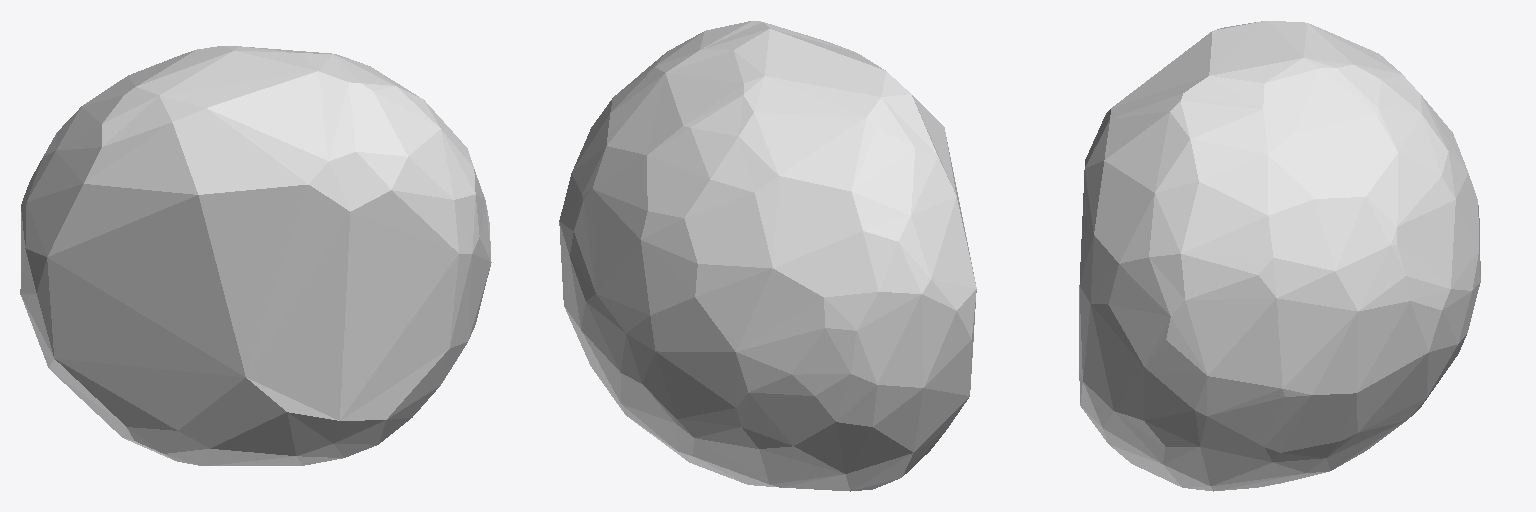
robot.urdf — talos_larm_rom:
<?xml version="1.0" ?>
<robot name="talos_larm_rom" xmlns:controller="http://playerstage.sourceforge.net/gazebo/xmlschema/#controller" xmlns:interface="http://playerstage.sourceforge.net/gazebo/xmlschema/#interface" xmlns:sensor="http://playerstage.sourceforge.net/gazebo/xmlschema/#sensor" xmlns:xacro="http://ros.org/wiki/xacro">

  <link name="torso_2_link">
    <inertial>
      <origin rpy="0.00000 0.00000 0.00000" xyz="-0.04551 -0.00053 0.16386"/>
      <mass value="17.55011"/>
      <inertia ixx="0.37376900000" ixy="0.00063900000" ixz="0.01219600000" iyy="0.24790200000" iyz="0.00000700000" izz="0.28140400000"/>
    </inertial>    
    <visual>
      <origin rpy="0 0 0" xyz="0 0 0"/>
      <geometry>
        <mesh filename="package://talos-rbprm/meshes/talos_larm_rom.dae" scale="1 1 1"/>
      </geometry>
      <material name="LightGrey"/>
    </visual>
    <collision>
      <origin rpy="0 0 0" xyz="0 0 0"/>
      <geometry>
        <mesh filename="package://talos-rbprm/meshes/talos_larm_rom.stl" scale="1 1 1"/>
      </geometry>
    </collision>
  </link>
  <!--************************-->
  <!--        TORSO_1  (PAN)  -->
  <!--************************-->
  <link name="torso_1_link">
    <inertial>
      <origin rpy="0.00000 0.00000 0.00000" xyz="0.00013 -0.00001 -0.01306"/>
      <mass value="3.02433"/>
      <inertia ixx="0.00759400000" ixy="0.00000100000" ixz="-0.00004800000" iyy="0.00429200000" iyz="-0.00000100000" izz="0.00749700000"/>
    </inertial>
  </link>
  <joint name="torso_1_joint" type="revolute">
    <parent link="base_link"/>
    <child link="torso_1_link"/>
    <origin rpy="0.0 0.0 0.0" xyz="0.0 0.0 0.0722"/>
    <axis xyz="0 0 1"/>
    <limit effort="78.0" lower="-1.25663706144" upper="1.25663706144" velocity="5.4"/>
  </joint>
  <!--************************-->
  <!--        BASE_LINK       -->
  <!--************************-->
  <link name="base_link">
    <inertial>
      <origin rpy="0.00000 0.00000 0.00000" xyz="-0.08222 0.00838 -0.07261"/>
      <mass value="13.53810"/>
      <inertia ixx="0.06989000000" ixy="-0.00011700000" ixz="0.00023000000" iyy="0.03998200000" iyz="-0.00132500000" izz="0.08234500000"/>
    </inertial>
  </link>
  <joint name="torso_2_joint" type="revolute">
    <parent link="torso_1_link"/>
    <child link="torso_2_link"/>
    <origin rpy="0.0 0.0 0.0" xyz="0.0 0.0 0.0"/>
    <axis xyz="0 1 0"/>
    <limit effort="78.0" lower="-0.226892802759" upper="0.733038285838" velocity="5.4"/>
  </joint>
  <!-- define global properties -->
  <!-- <xacro:property name="M_PI" value="3.1415926535897931" /> -->
  <!-- Materials for visualization -->
  <material name="Blue">
    <color rgba="0.0 0.0 0.8 1.0"/>
  </material>
  <material name="Green">
    <color rgba="0.0 0.8 0.0 0.3"/>
  </material>
  <material name="Grey">
    <color rgba="0.7 0.7 0.7 1.0"/>
  </material>
  <material name="LightGrey">
    <color rgba="0.9 0.9 0.9 1.0"/>
  </material>
  <material name="DarkGrey">
    <color rgba="0.2 0.2 0.2 1.0"/>
  </material>
  <material name="Red">
    <color rgba="0.8 0.0 0.0 1.0"/>
  </material>
  <material name="White">
    <color rgba="1.0 1.0 1.0 1.0"/>
  </material>
  <material name="Orange">
    <color rgba="1.0 0.5 0.0 1.0"/>
  </material>
</robot>

--- What the picture shows (computed from the rendered views, not written in the file) ---
3 views of the same robot in one strip: view 1: azimuth 30°, elevation 25°; view 2: azimuth 150°, elevation 25°; view 3: azimuth 270°, elevation 25° (orthographic).
Model talos_larm_rom with 3 links and 2 joints (2 revolute), rooted at base_link, posed all joints at 0.
Links seen in each view (by area): view 1: torso_2_link; view 2: torso_2_link; view 3: torso_2_link.
Boxes of the visible links, x1,y1,x2,y2 form: torso_2_link: (20, 46, 491, 465); torso_2_link: (559, 21, 976, 491); torso_2_link: (1079, 21, 1480, 491).
Bounding box of the posed robot: 1.64 × 1.36 × 1.52 m (x, y, z).
1 mesh visuals loaded from 1 distinct referenced files (1 Collada DAE).